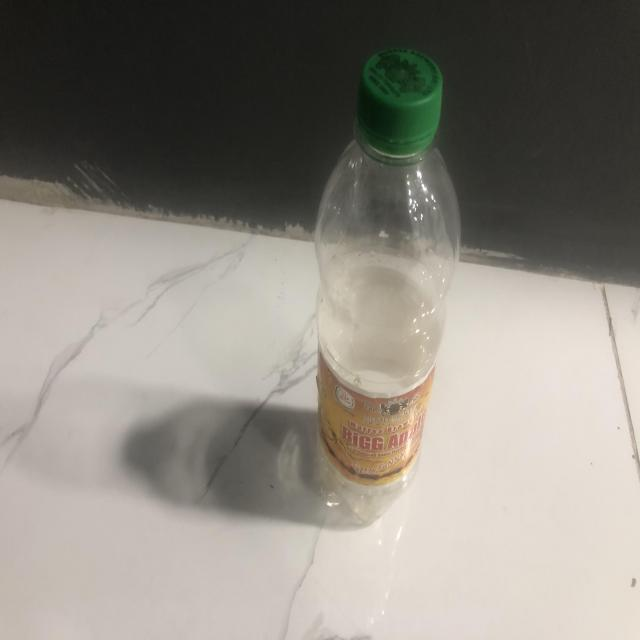bottle-plastic: (317, 46, 461, 528)
